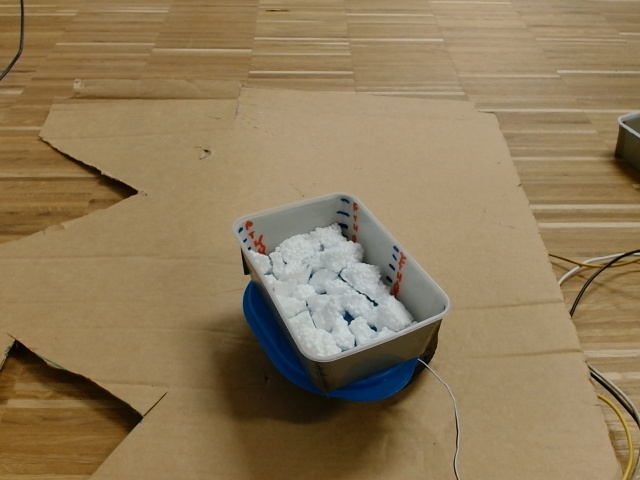Small_quarter: (235, 190, 454, 363)
